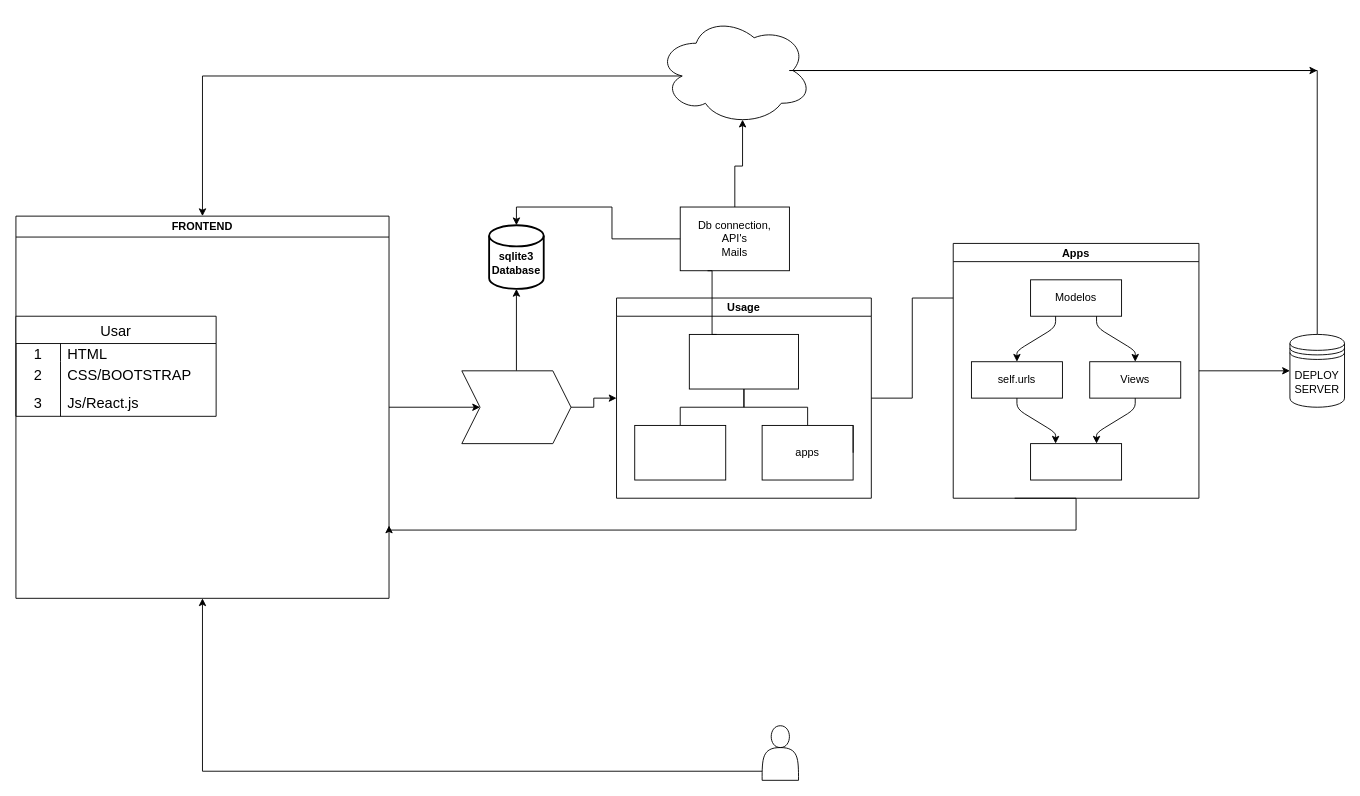
Some shapes in this 1360 by 796 pixel diagram are drawn without their labels. The shapes that lost their labels are listed below. From the top down, each one's centre as x and y in pixels, then its label:
At pixel 734 70: "Cloud".
At pixel 743 361: "settings".
At pixel 516 407: "django 5.0".
At pixel 680 452: "Urls".
At pixel 1076 461: "render".
